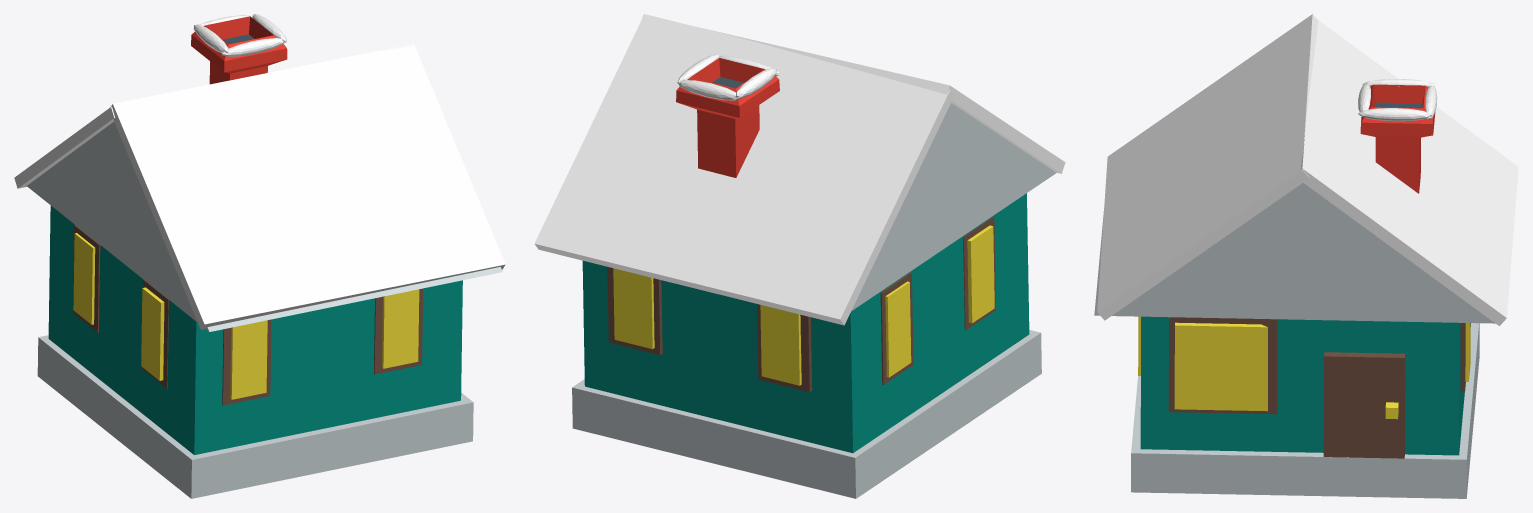
The model's file is casasnow_lev5.glb.
3 views of the same model, side by side, from view 1: azimuth 30°, elevation 25°; view 2: azimuth 150°, elevation 25°; view 3: azimuth 270°, elevation 25° (orthographic). The views are drawn at different scales.
Visible parts, largest first — view 1: casasnow_lev5; view 2: casasnow_lev5; view 3: casasnow_lev5.
Boxes of the visible parts, x1=… form: casasnow_lev5: x1=14, y1=14, x2=505, y2=498; casasnow_lev5: x1=534, y1=14, x2=1065, y2=498; casasnow_lev5: x1=1094, y1=14, x2=1518, y2=498.
Bounding box in the file's own units: 15.32 × 16.34 × 17.97.
